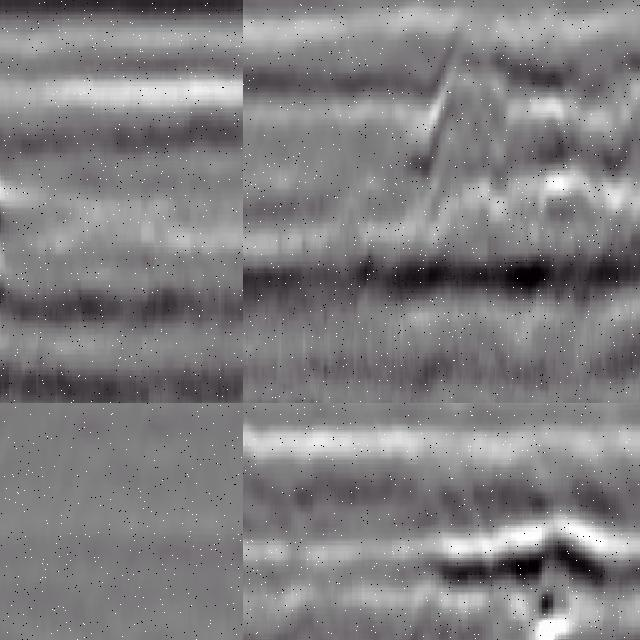crack: (1, 109, 34, 404)
loose: (391, 10, 640, 321), (431, 472, 640, 640)
